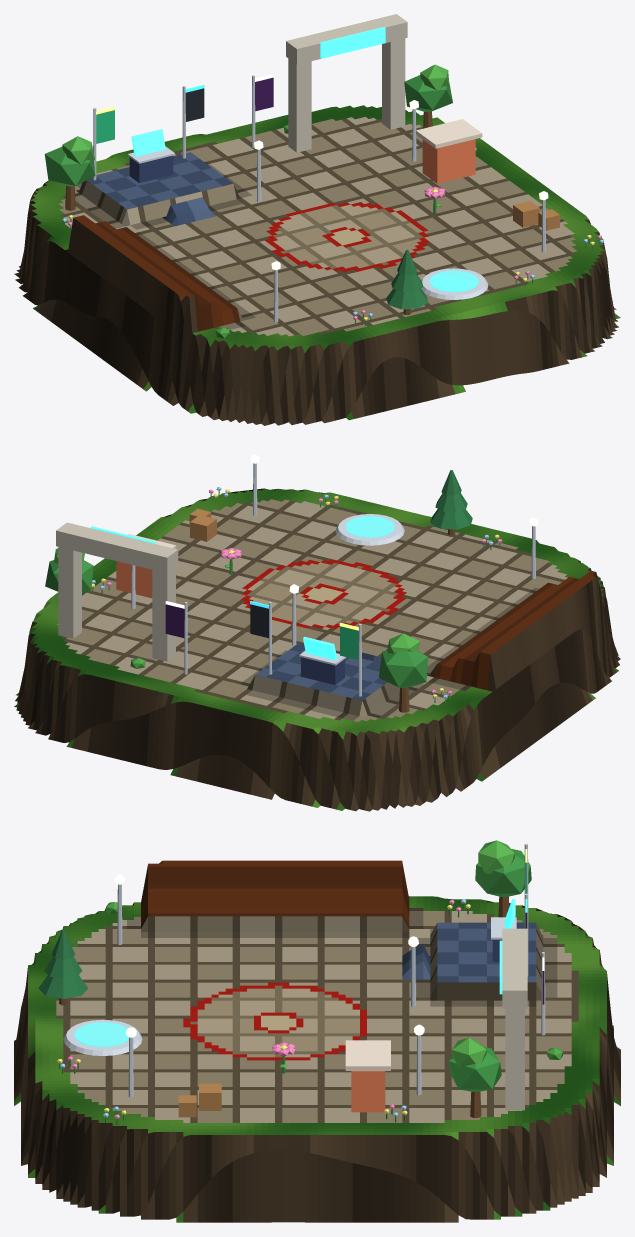
The picture shows the model from 3 angles, top to bottom: view 1: azimuth 30°, elevation 25°; view 2: azimuth 150°, elevation 25°; view 3: azimuth 270°, elevation 25°; orthographic projection. The views are drawn at different scales.
Visible parts, largest first — view 1: terrain, arch_pillar_-1, arch_beam, arch_pillar_1, kiosk_body_12, tree_crown_14, kiosk_roof_12, arch_plate, tree_crown_15, warppad_9, terminal_base_0, warppad_glow_9 (+8 smaller); view 2: terrain, arch_beam, arch_pillar_1, arch_pillar_-1, tree_crown_14, kiosk_body_12, warppad_9, terminal_base_0, warppad_glow_9, pine_cone_16_0, tree_crown_15, crate_10 (+5 smaller); view 3: terrain, arch_beam, arch_pillar_1, tree_crown_14, tree_crown_15, kiosk_body_12, kiosk_roof_12, warppad_9, warppad_glow_9, tree_top_14, pine_cone_16_0, tree_top_15 (+2 smaller).
Part boxes in pixels (left/top/right/bottom): terrain: left=14, top=105, right=620, bottom=425; arch_pillar_-1: left=288, top=58, right=311, bottom=152; arch_beam: left=286, top=14, right=407, bottom=64; arch_pillar_1: left=382, top=38, right=405, bottom=129; kiosk_body_12: left=422, top=139, right=475, bottom=183; tree_crown_14: left=44, top=147, right=95, bottom=186; kiosk_roof_12: left=416, top=119, right=482, bottom=148; arch_plate: left=320, top=26, right=385, bottom=58; tree_crown_15: left=404, top=75, right=452, bottom=112; warppad_9: left=421, top=268, right=488, bottom=299; terminal_base_0: left=129, top=155, right=173, bottom=182; warppad_glow_9: left=429, top=270, right=478, bottom=292; terrain: left=14, top=488, right=620, bottom=811; arch_beam: left=56, top=522, right=178, bottom=573; arch_pillar_1: left=58, top=547, right=81, bottom=638; arch_pillar_-1: left=152, top=567, right=175, bottom=661; tree_crown_14: left=379, top=650, right=427, bottom=688; kiosk_body_12: left=116, top=561, right=152, bottom=598; warppad_9: left=335, top=514, right=404, bottom=545; terminal_base_0: left=301, top=657, right=344, bottom=684; warppad_glow_9: left=345, top=516, right=394, bottom=537; pine_cone_16_0: left=430, top=509, right=472, bottom=529; tree_crown_15: left=45, top=560, right=93, bottom=592; crate_10: left=190, top=515, right=216, bottom=541; terrain: left=14, top=860, right=620, bottom=1222; arch_beam: left=502, top=928, right=527, bottom=1008; arch_pillar_1: left=505, top=1008, right=524, bottom=1110; tree_crown_14: left=475, top=849, right=531, bottom=896; tree_crown_15: left=448, top=1046, right=501, bottom=1091; kiosk_body_12: left=351, top=1071, right=385, bottom=1112; kiosk_roof_12: left=345, top=1040, right=390, bottom=1070; warppad_9: left=63, top=1019, right=142, bottom=1055; warppad_glow_9: left=74, top=1022, right=128, bottom=1047; tree_top_14: left=478, top=840, right=514, bottom=873; pine_cone_16_0: left=38, top=975, right=88, bottom=998; tree_top_15: left=451, top=1037, right=486, bottom=1067.
Size of the model in its own units: 21 by 7.95 by 21.5.
